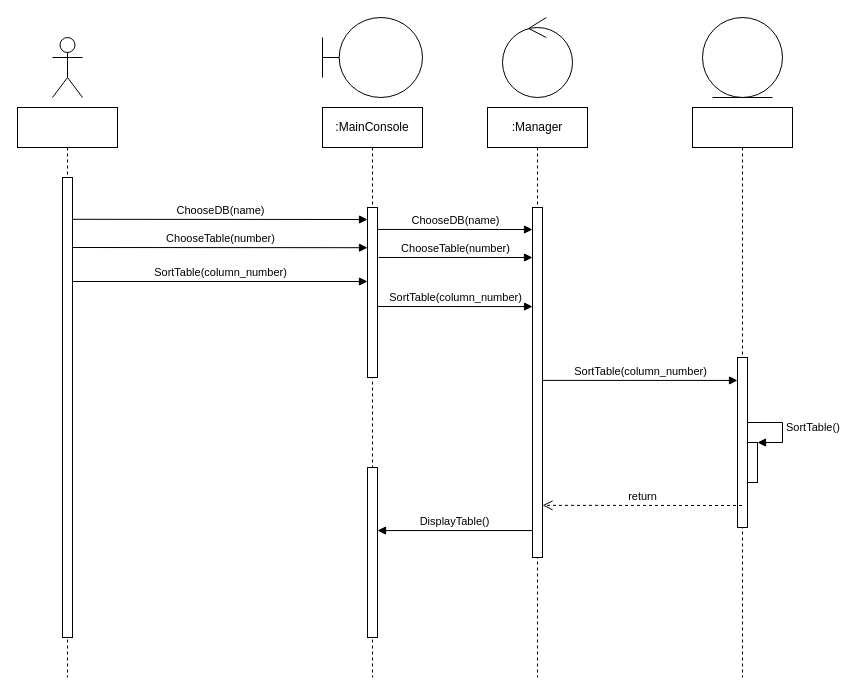
Some shapes in this 858 by 695 pixel diagram are drawn without their labels. Each missing label, with the box of its shape:
:Database: (692, 106, 792, 678)
:User: (16, 106, 118, 678)
